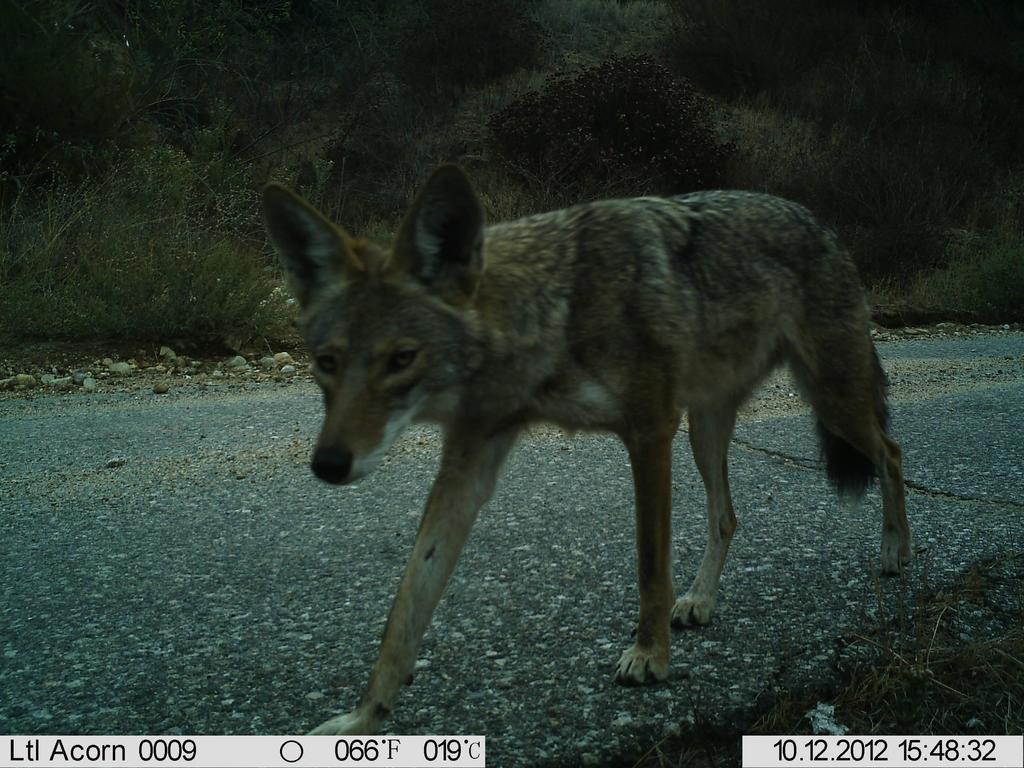coyote: (247, 150, 930, 744)
